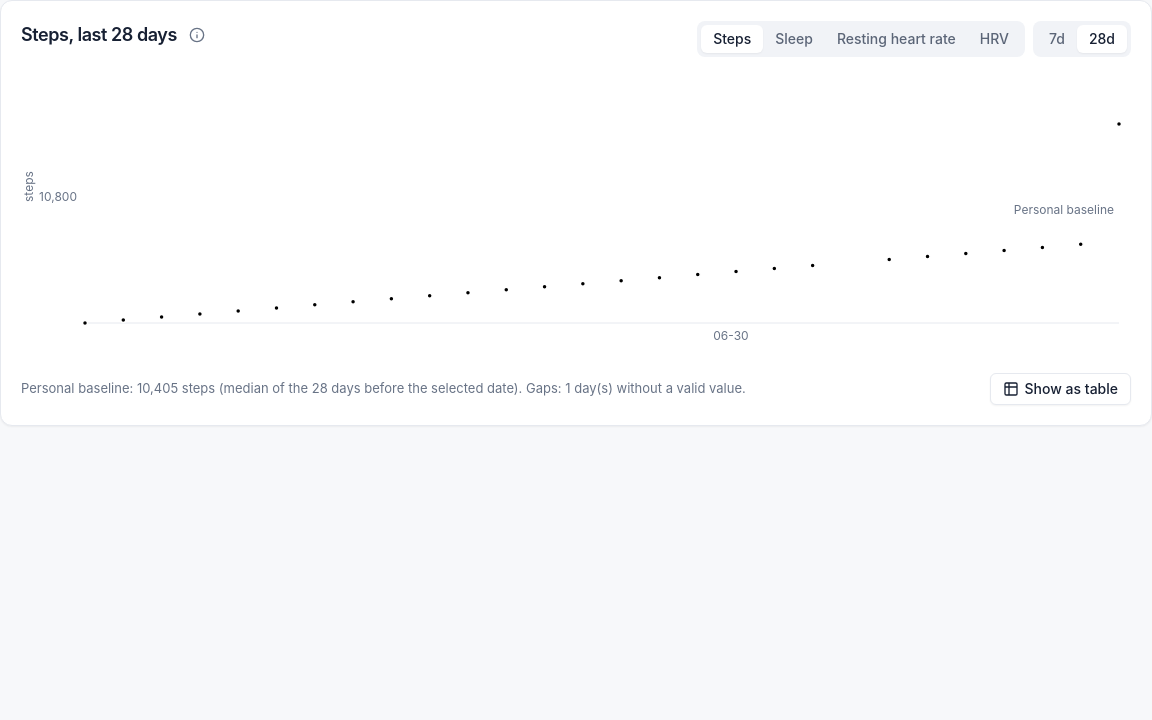
TrendChart › shows the backend observations in the table view, including gaps
Check: the heading "Steps, last 28 days" is shown, box [21, 21, 177, 49]
Check: the text "Personal baseline: 10,405 steps" is shown, box [21, 380, 522, 396]
What coordinates should you click on to do the following:
click the button "Show as table"
I would click on:
 (1060, 389)
Its box is [990, 373, 1131, 405].
(page scrolled)
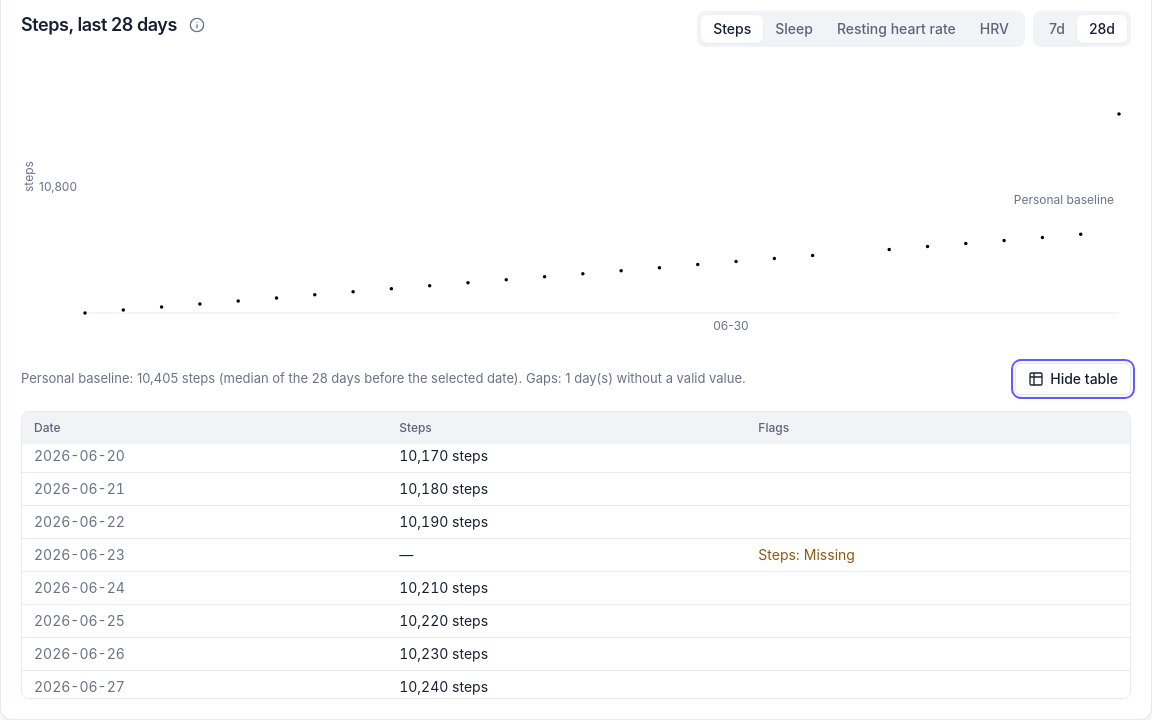
Check: the text "Steps: Missing" is shown, box [746, 538, 1130, 572]
